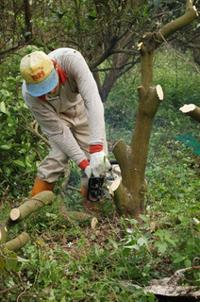person: (20, 48, 112, 213)
